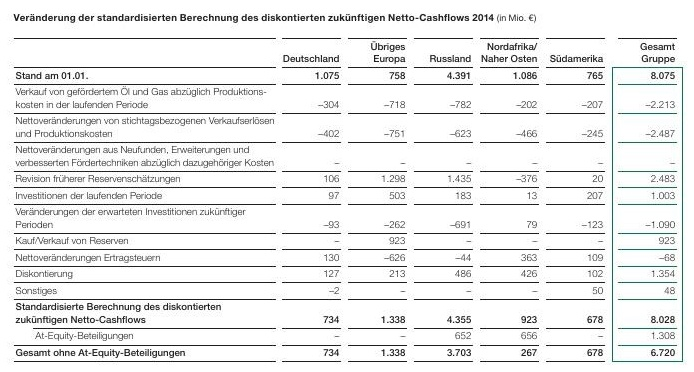table: (0, 0, 694, 372)
